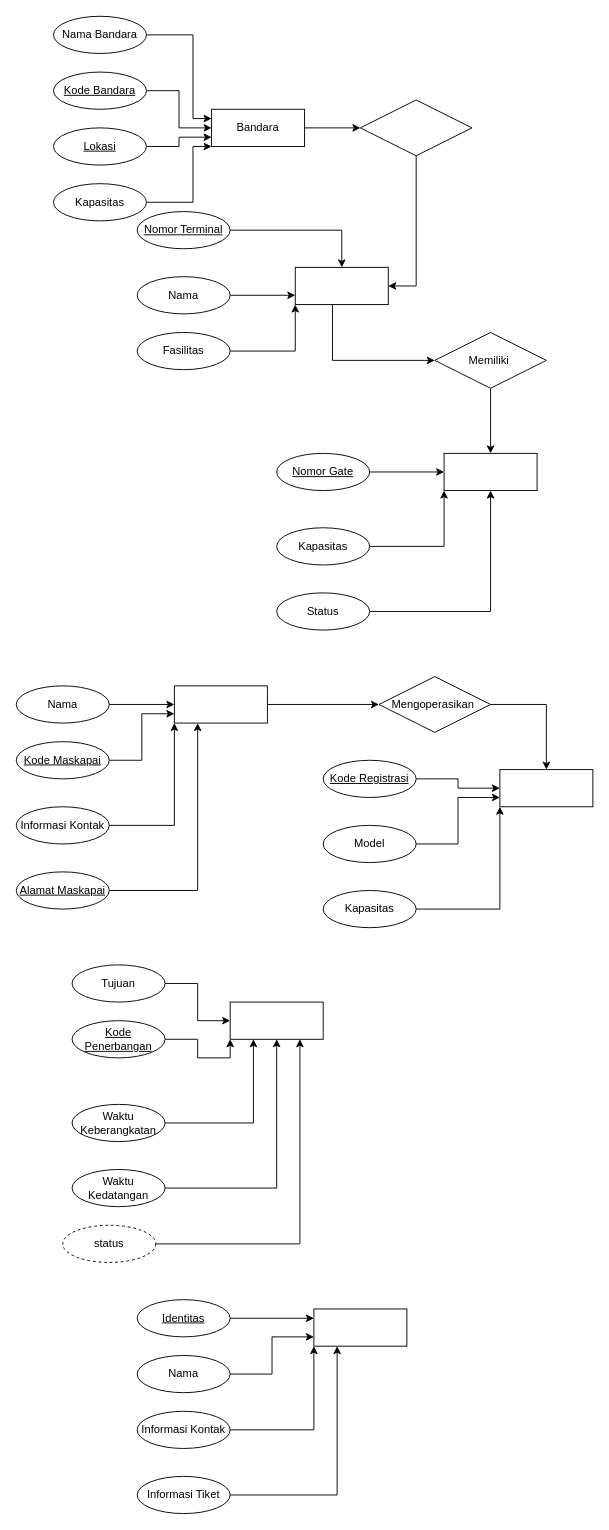
The diagram is 609 pixels wide and 1530 high, and some of its shapes have lost their labels. Here are the shapes that lost their labels. From the top down, the centre of each, then its label:
At (415,127): "mempunyai".
At (341,285): "Terminal".
At (490,471): "Gate".
At (220,704): "Maskapai".
At (546,788): "Pesawat".
At (276,1020): "Penerbangan".
At (360,1327): "Penumpang".
